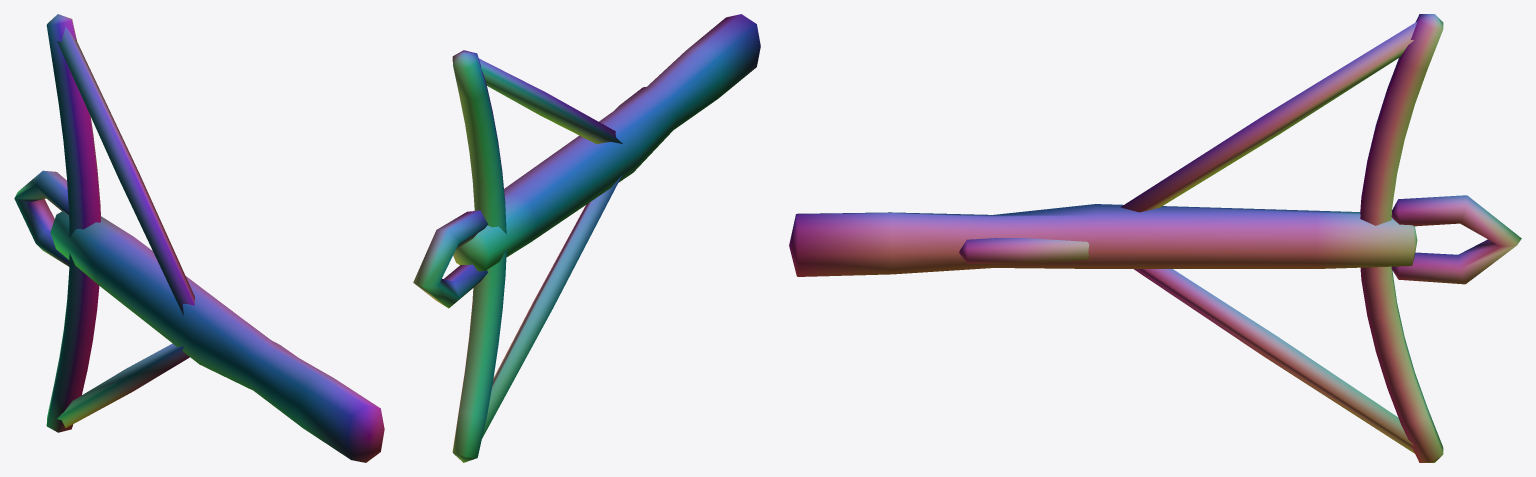
File: SM_MonWeapon_Crossbow.fbx
3 renders of one model, left to right at view 1: azimuth 30°, elevation 25°; view 2: azimuth 150°, elevation 25°; view 3: azimuth 270°, elevation 25°, orthographic. The views are drawn at different scales.
Visible parts, largest first — view 1: SM_MonWeapon_Crossbow; view 2: SM_MonWeapon_Crossbow; view 3: SM_MonWeapon_Crossbow.
Part boxes in pixels (bbox=[...]): SM_MonWeapon_Crossbow: bbox=[14, 14, 384, 462]; SM_MonWeapon_Crossbow: bbox=[413, 14, 760, 462]; SM_MonWeapon_Crossbow: bbox=[789, 14, 1521, 462].
Bounding box in the file's own units: 0.0978 × 0.6763 × 1.
